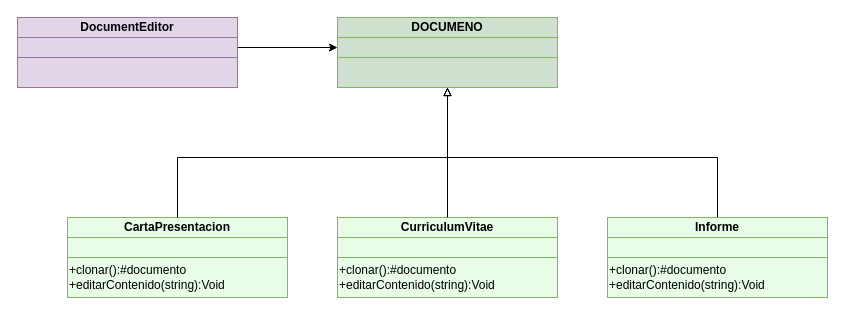
Some shapes in this 845 by 315 pixel diagram are drawn without their labels. Here are the shapes that lost their labels. From the top down, the box of each, then its label:
(16, 56, 238, 88): +crearDocumento(tipo):#Documento
(336, 56, 558, 88): +clonar() +editarContenido()
